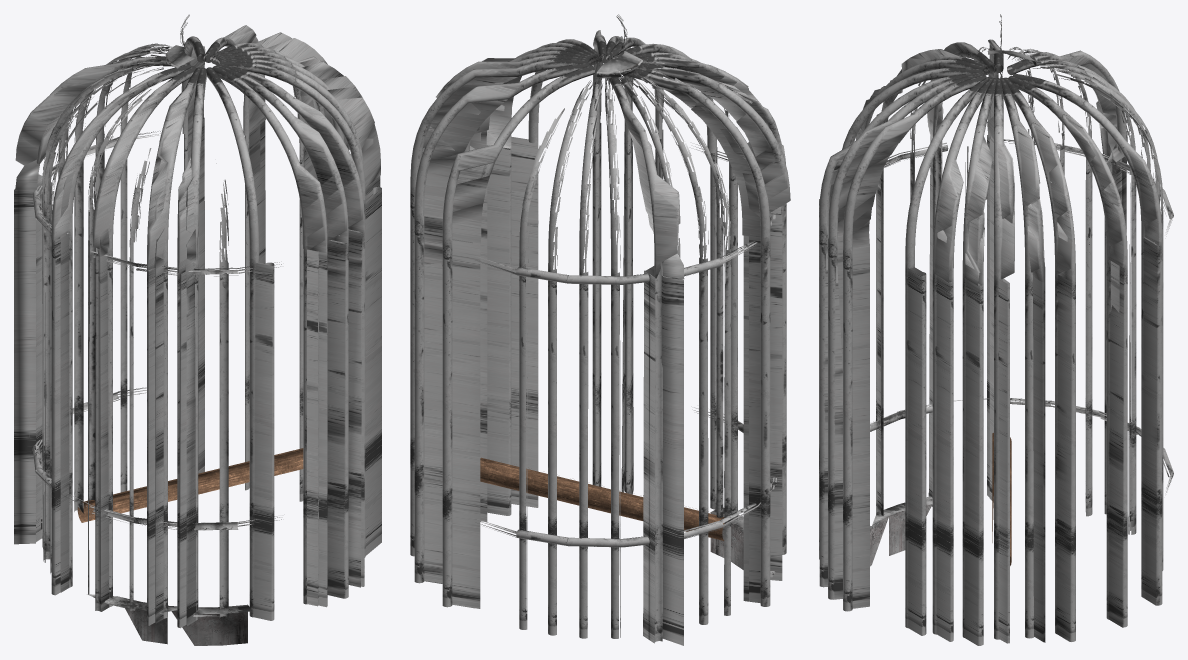
The model's file is cage-broken.glb.
The picture shows the model from 3 angles, left to right: view 1: azimuth 30°, elevation 25°; view 2: azimuth 150°, elevation 25°; view 3: azimuth 270°, elevation 25°; orthographic projection. The views are drawn at different scales.
Visible parts, largest first — view 1: Object_4, Object_3.001; view 2: Object_4, Object_3.001; view 3: Object_4, Object_3.001.
Part boxes in pixels (x1=…): Object_4: x1=14, y1=25, x2=381, y2=628; Object_3.001: x1=32, y1=14, x2=303, y2=645; Object_4: x1=410, y1=30, x2=790, y2=645; Object_3.001: x1=477, y1=14, x2=778, y2=638; Object_4: x1=819, y1=39, x2=1162, y2=645; Object_3.001: x1=856, y1=14, x2=1173, y2=570.
Size of the model in its own units: 209 by 361 by 200.
1 material, 1 textured.
